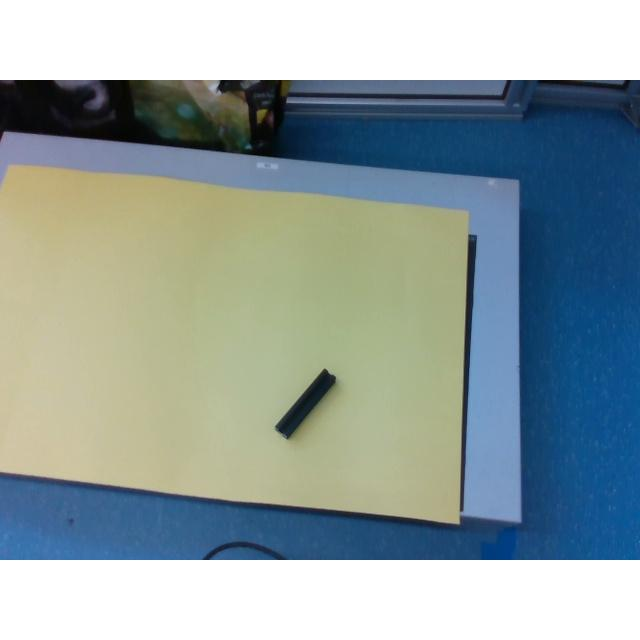F20_20_B: (274, 369, 334, 439)
S40_40_B: (547, 80, 631, 88)
